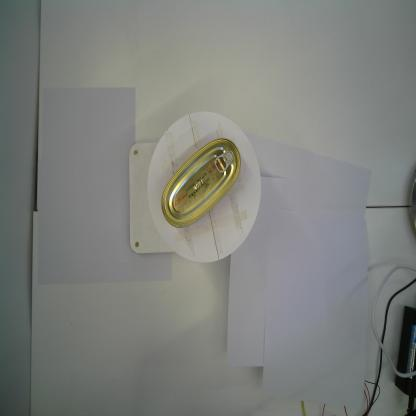Canned Food: (160, 137, 242, 229)
